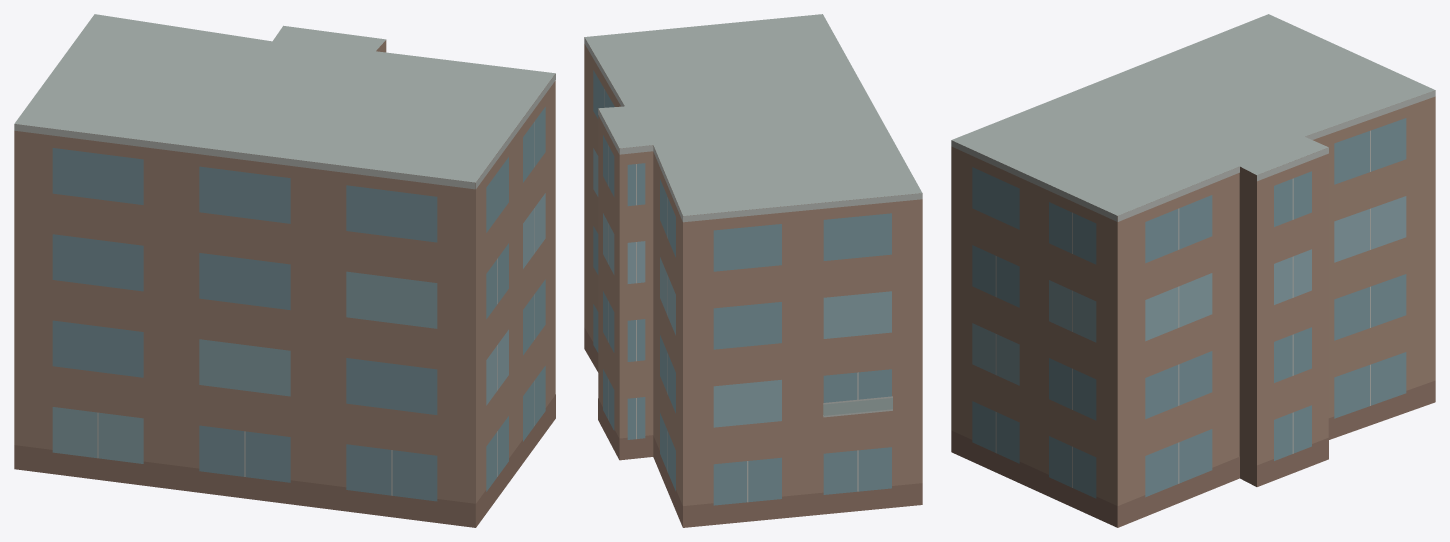
Rendered from survey-upis-32873192.glb.
3 views of the same model, side by side, from view 1: azimuth 30°, elevation 25°; view 2: azimuth 150°, elevation 25°; view 3: azimuth 270°, elevation 25° (orthographic). The views are drawn at different scales.
Parts seen in each view (by area): view 1: survey-upis-32873192.tmp; view 2: survey-upis-32873192.tmp; view 3: survey-upis-32873192.tmp.
Boxes of the visible parts, x1,y1,x2,y2 form: survey-upis-32873192.tmp: (14, 14, 555, 527); survey-upis-32873192.tmp: (584, 14, 922, 527); survey-upis-32873192.tmp: (951, 14, 1435, 527).
Size of the model in its own units: 17.08 by 12.3 by 17.32.
